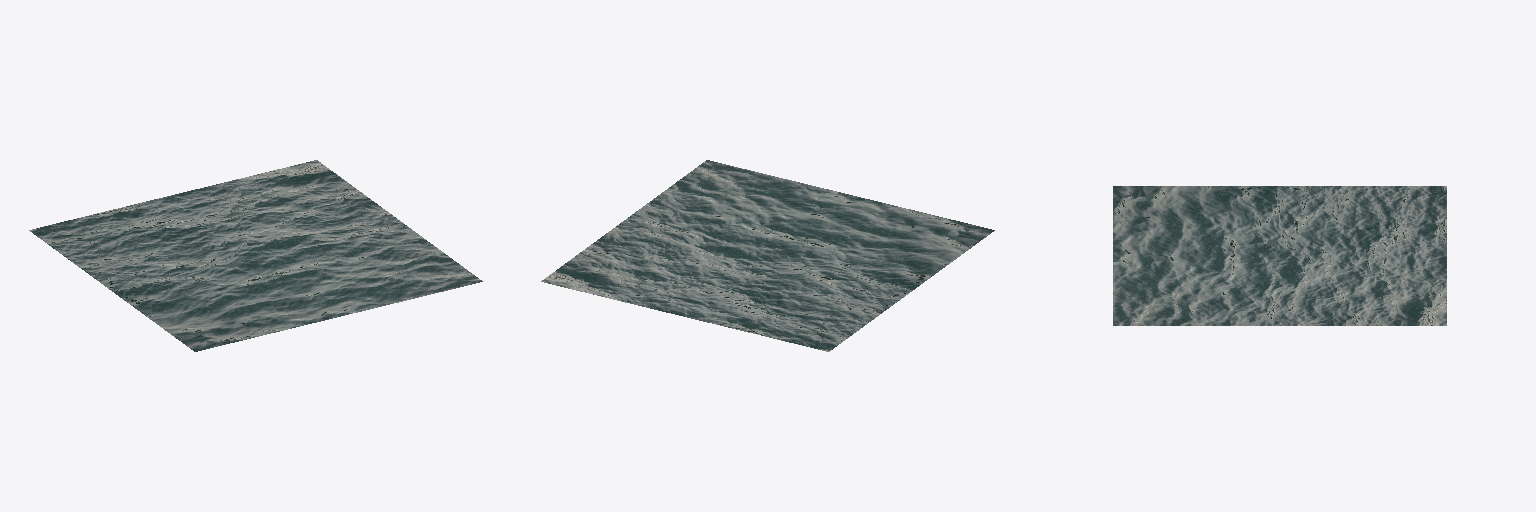
The picture shows the model from 3 angles: view 1: azimuth 30°, elevation 25°; view 2: azimuth 150°, elevation 25°; view 3: azimuth 270°, elevation 25°; orthographic projection.
Parts seen in each view (by area): view 1: pPlane1; view 2: pPlane1; view 3: pPlane1.
Boxes of the visible parts, x1=… form: pPlane1: x1=29, y1=160, x2=482, y2=351; pPlane1: x1=541, y1=160, x2=994, y2=351; pPlane1: x1=1113, y1=186, x2=1446, y2=325.
Size of the model in its own units: 5000 by 0 by 5000.
1 materials, 1 textured.